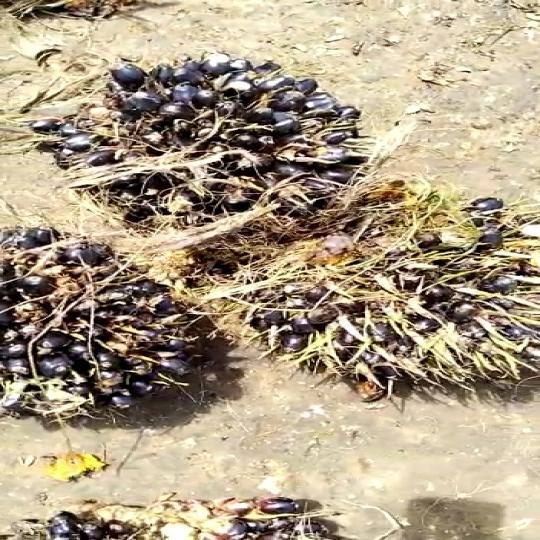mentah: (28, 41, 396, 244), (242, 171, 540, 399), (0, 202, 212, 429)
